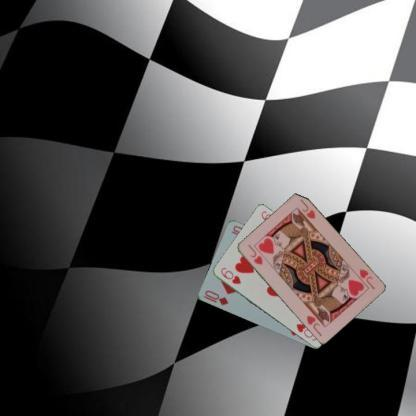10d: (201, 288, 230, 307)
6h: (218, 264, 242, 286)
Jh: (356, 266, 376, 291), (245, 242, 263, 266)
